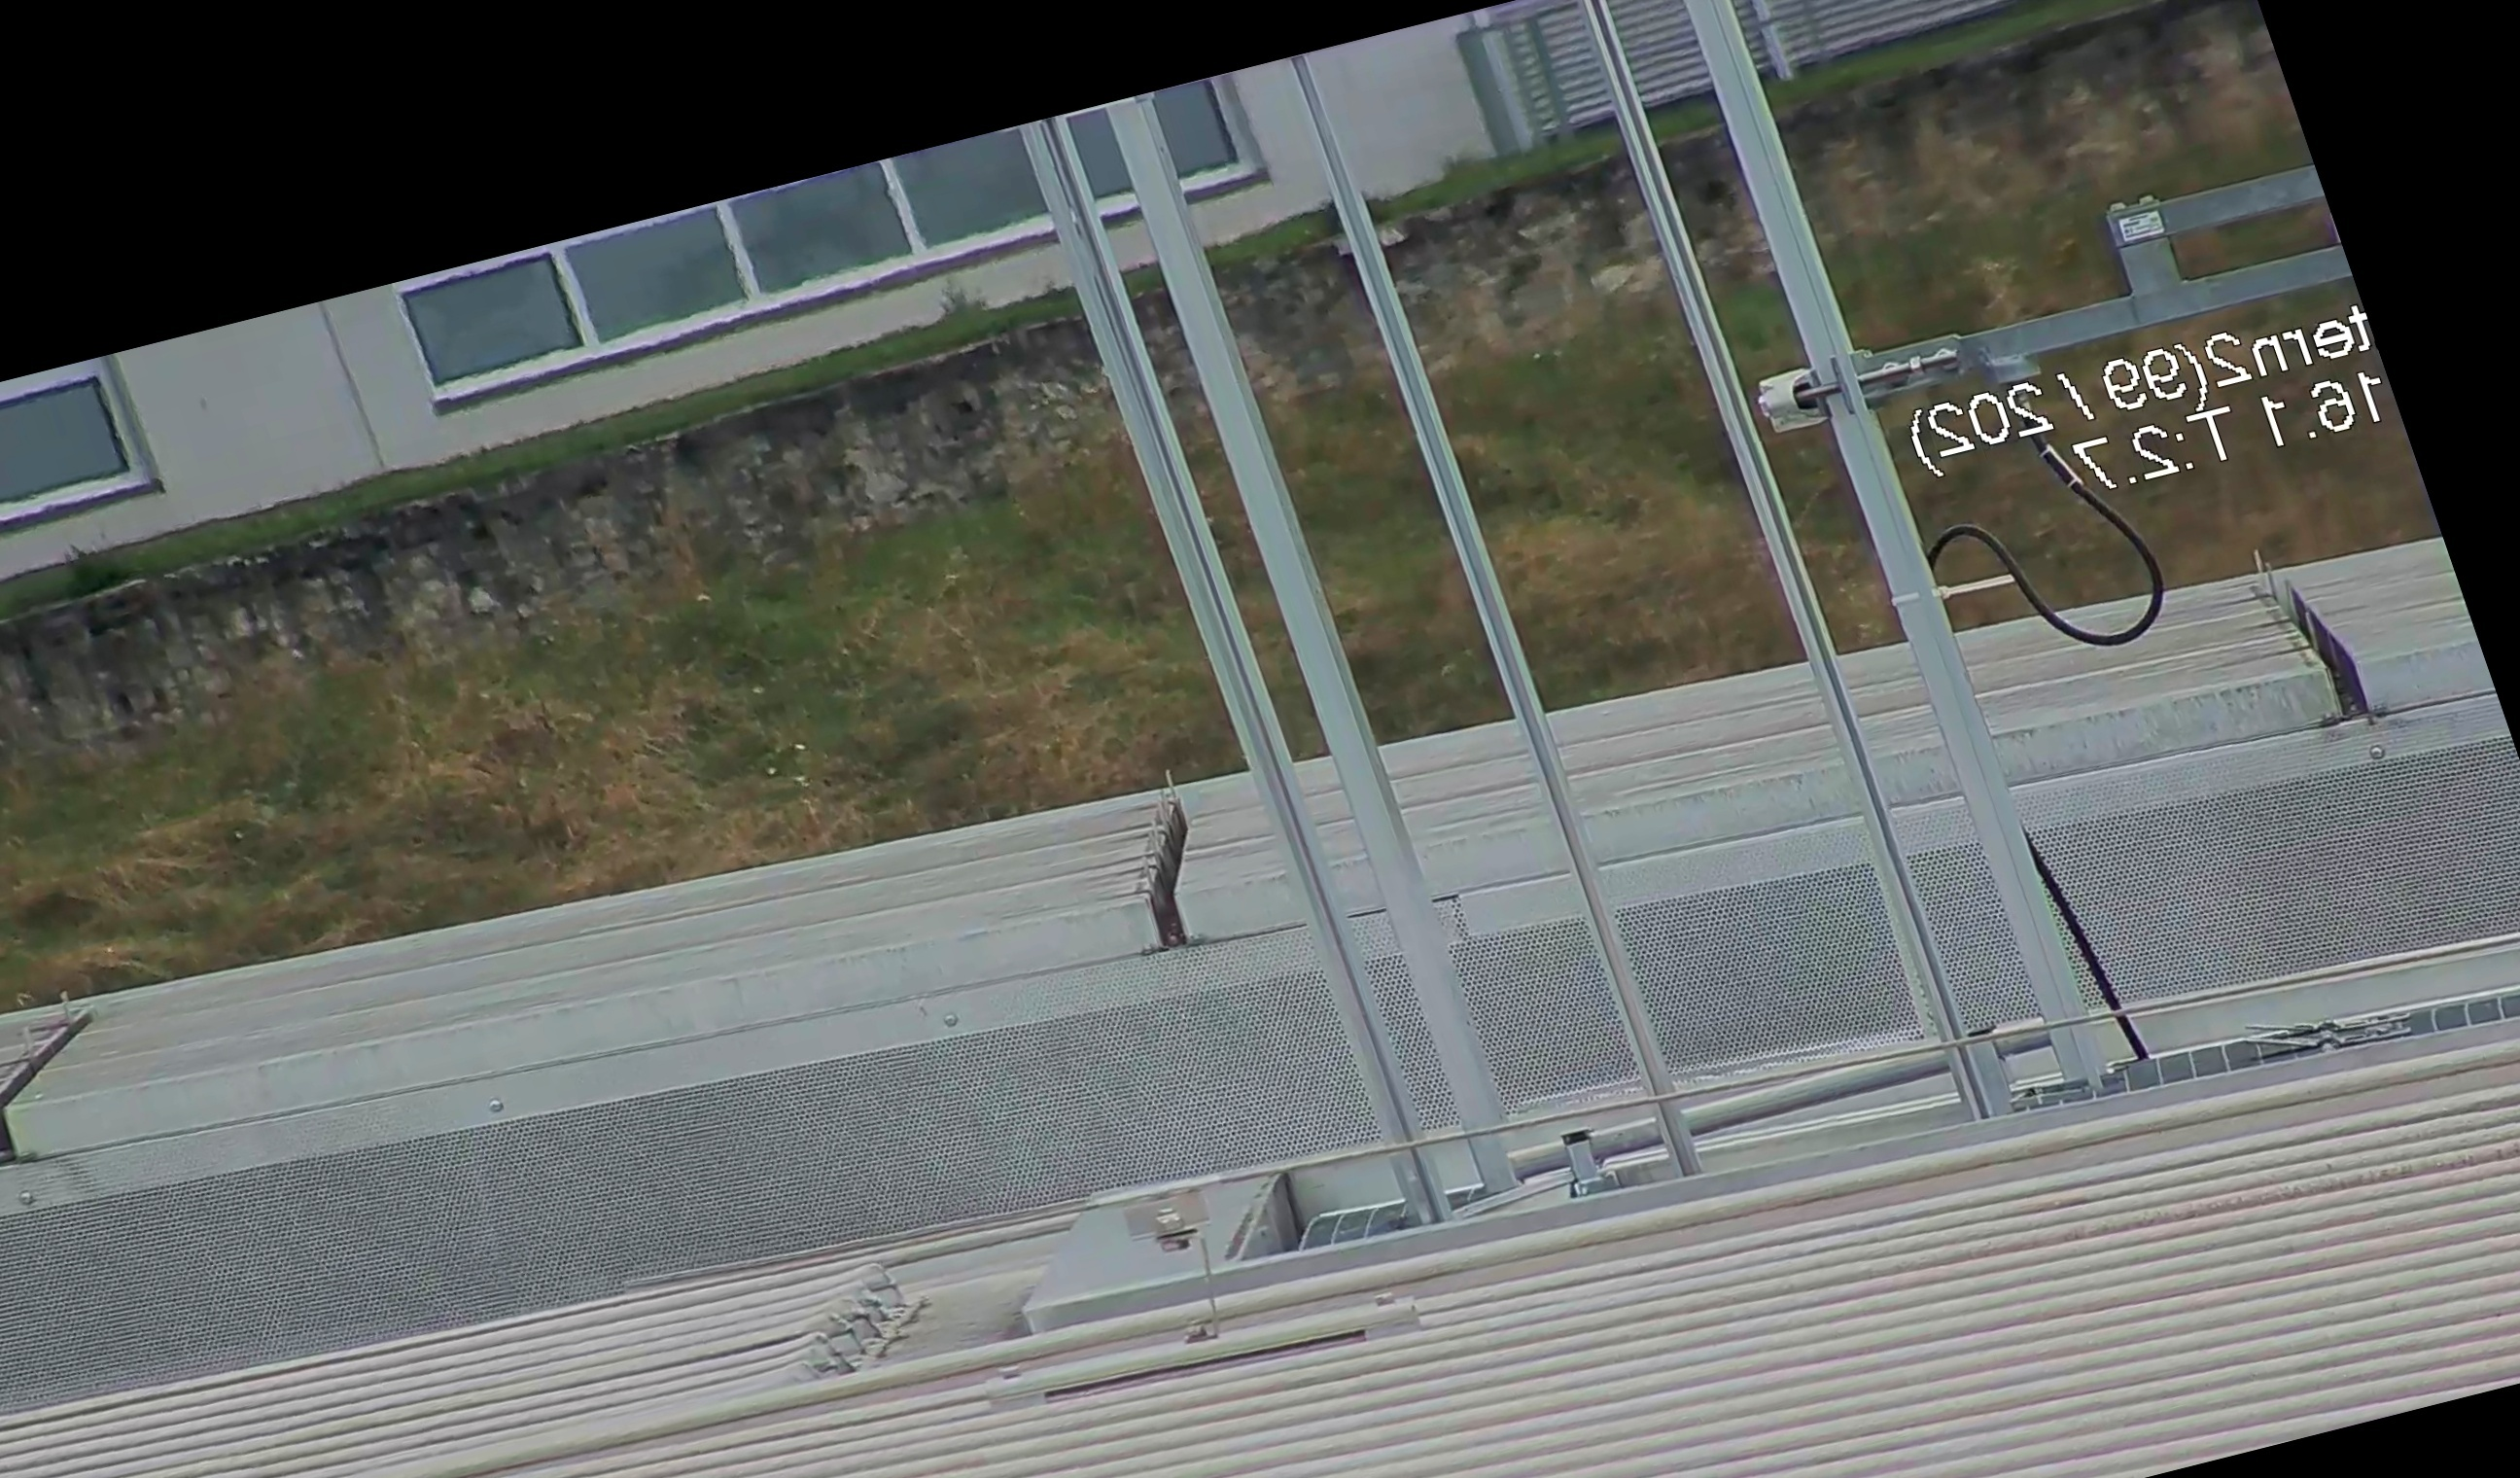Other: (1074, 757, 1256, 964)
